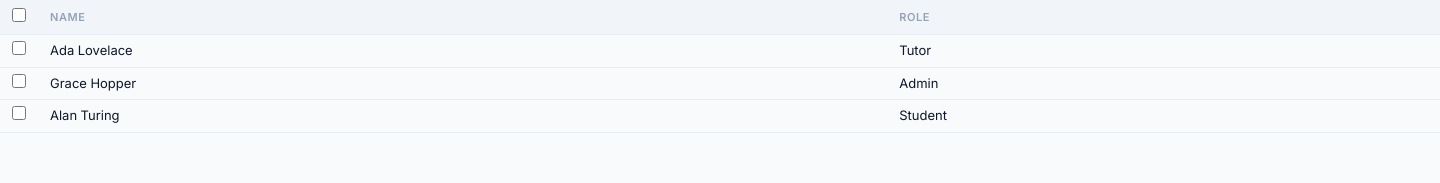
Test: DataTable — row selection › offers bulk actions only while something is selected
Check: the text "Archive" is not shown
Click the checkbox named "Select row p1" at (19, 48), box [12,41,26,55]
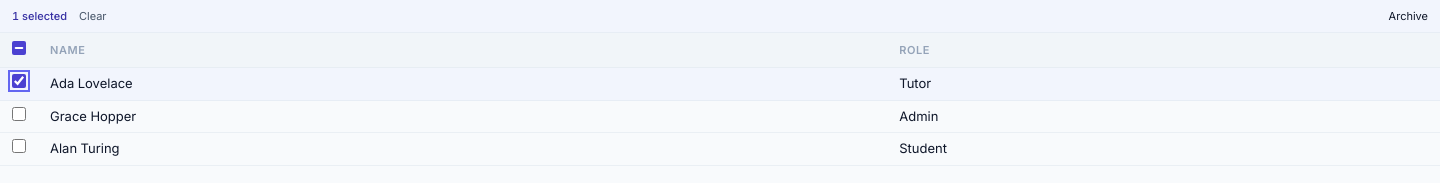
Check: the button "Archive" is shown, box [1389,8,1428,24]
Check: the text "1 selected" is shown, box [12,8,67,24]
